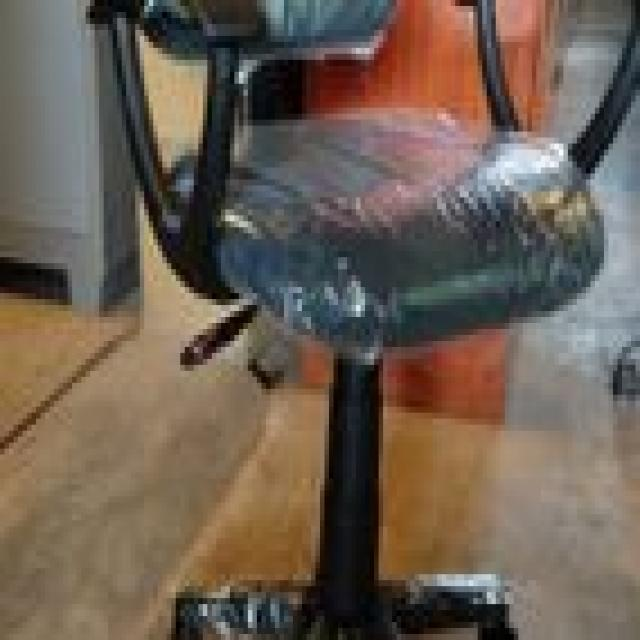others: (45, 6, 636, 640)
